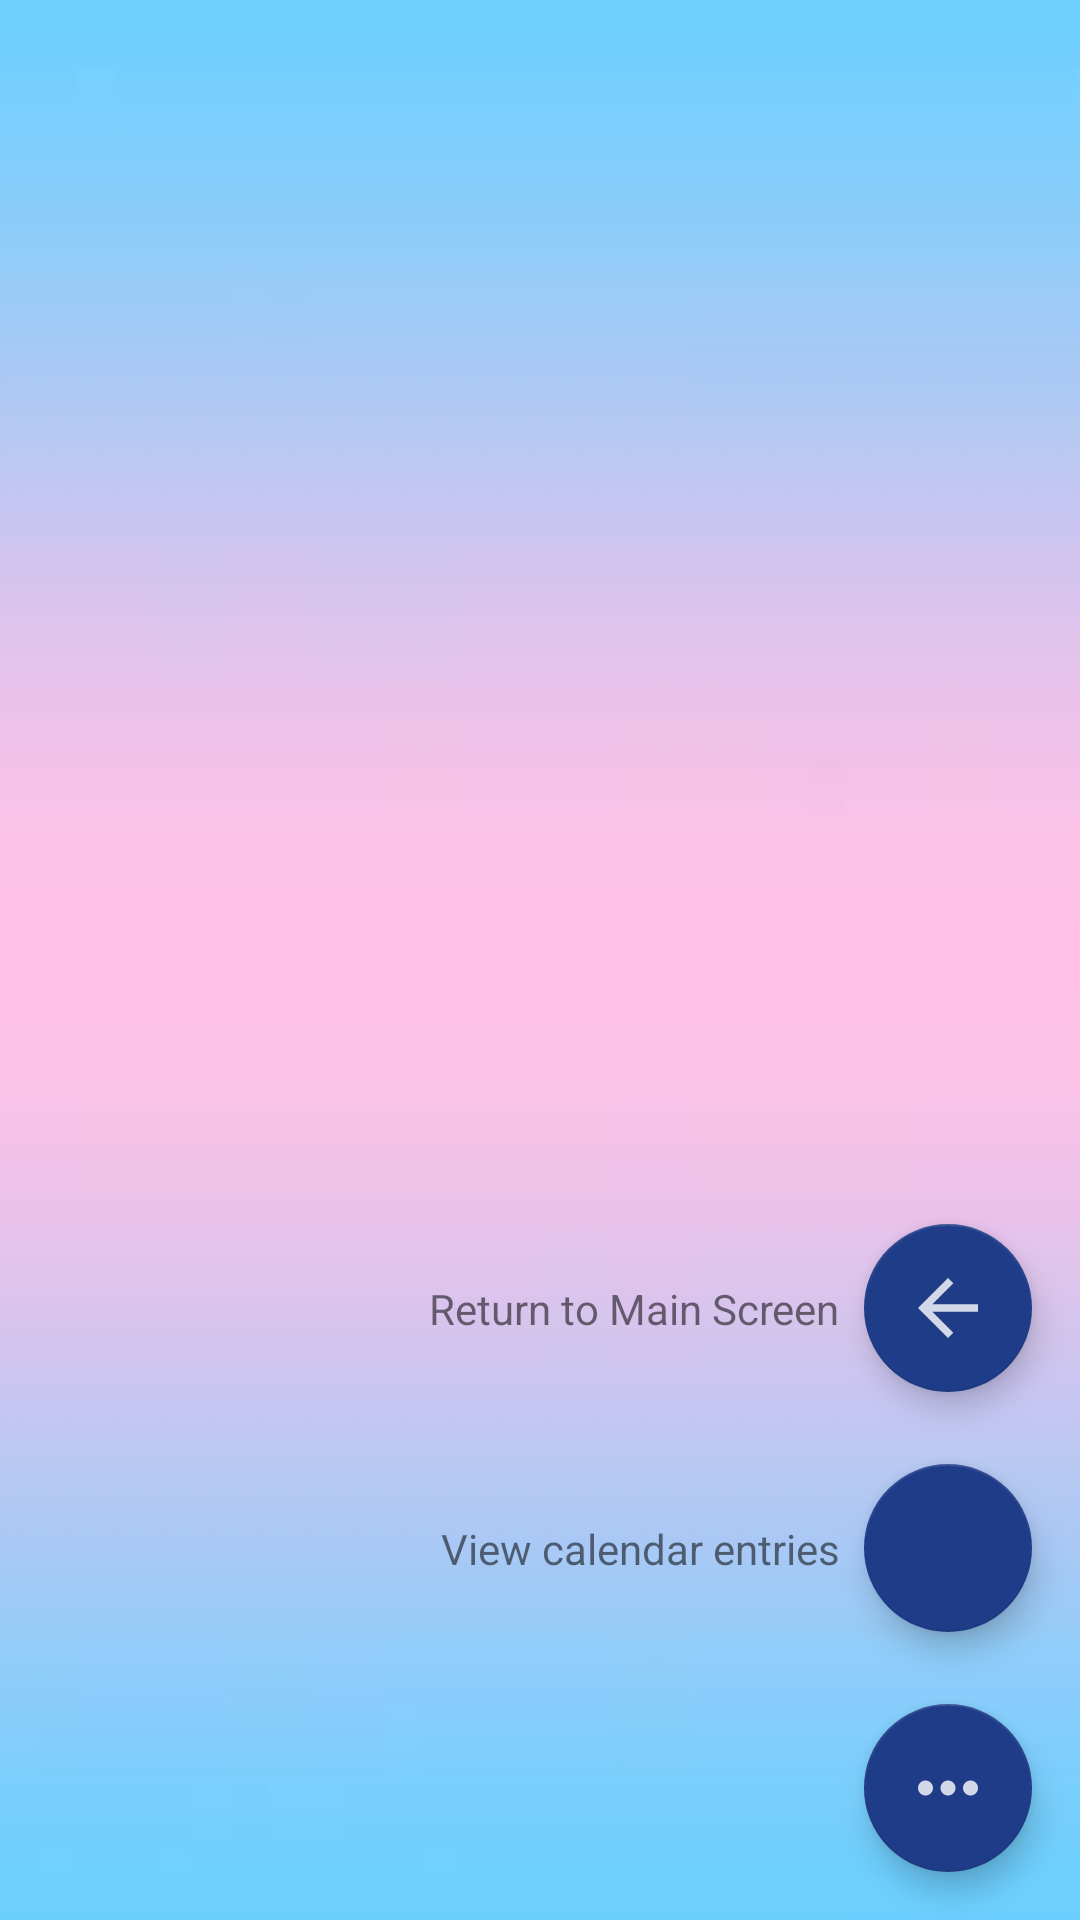

Icon click points for this 1080 × 1920 phone screenshot, format (x=x, y=y):
back: (x=948, y=1308)
more: (x=948, y=1788)
